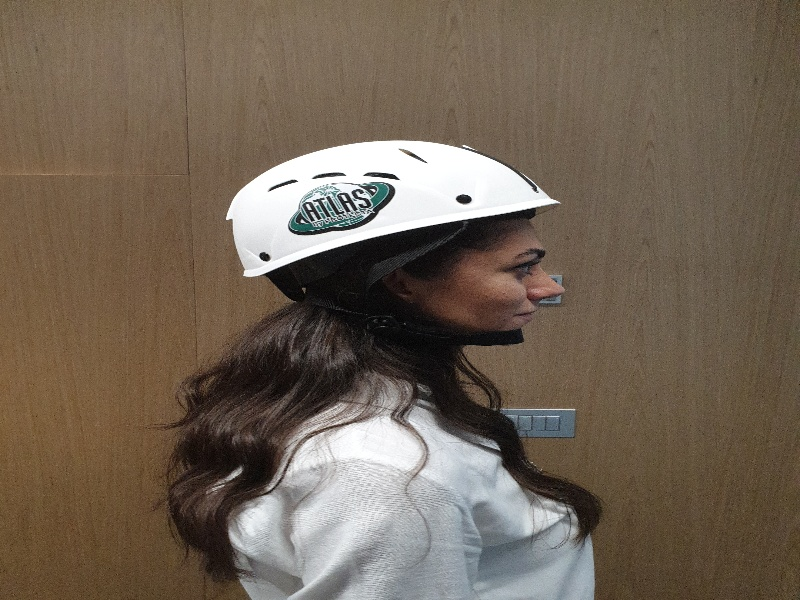Baret: (227, 140, 565, 260)
